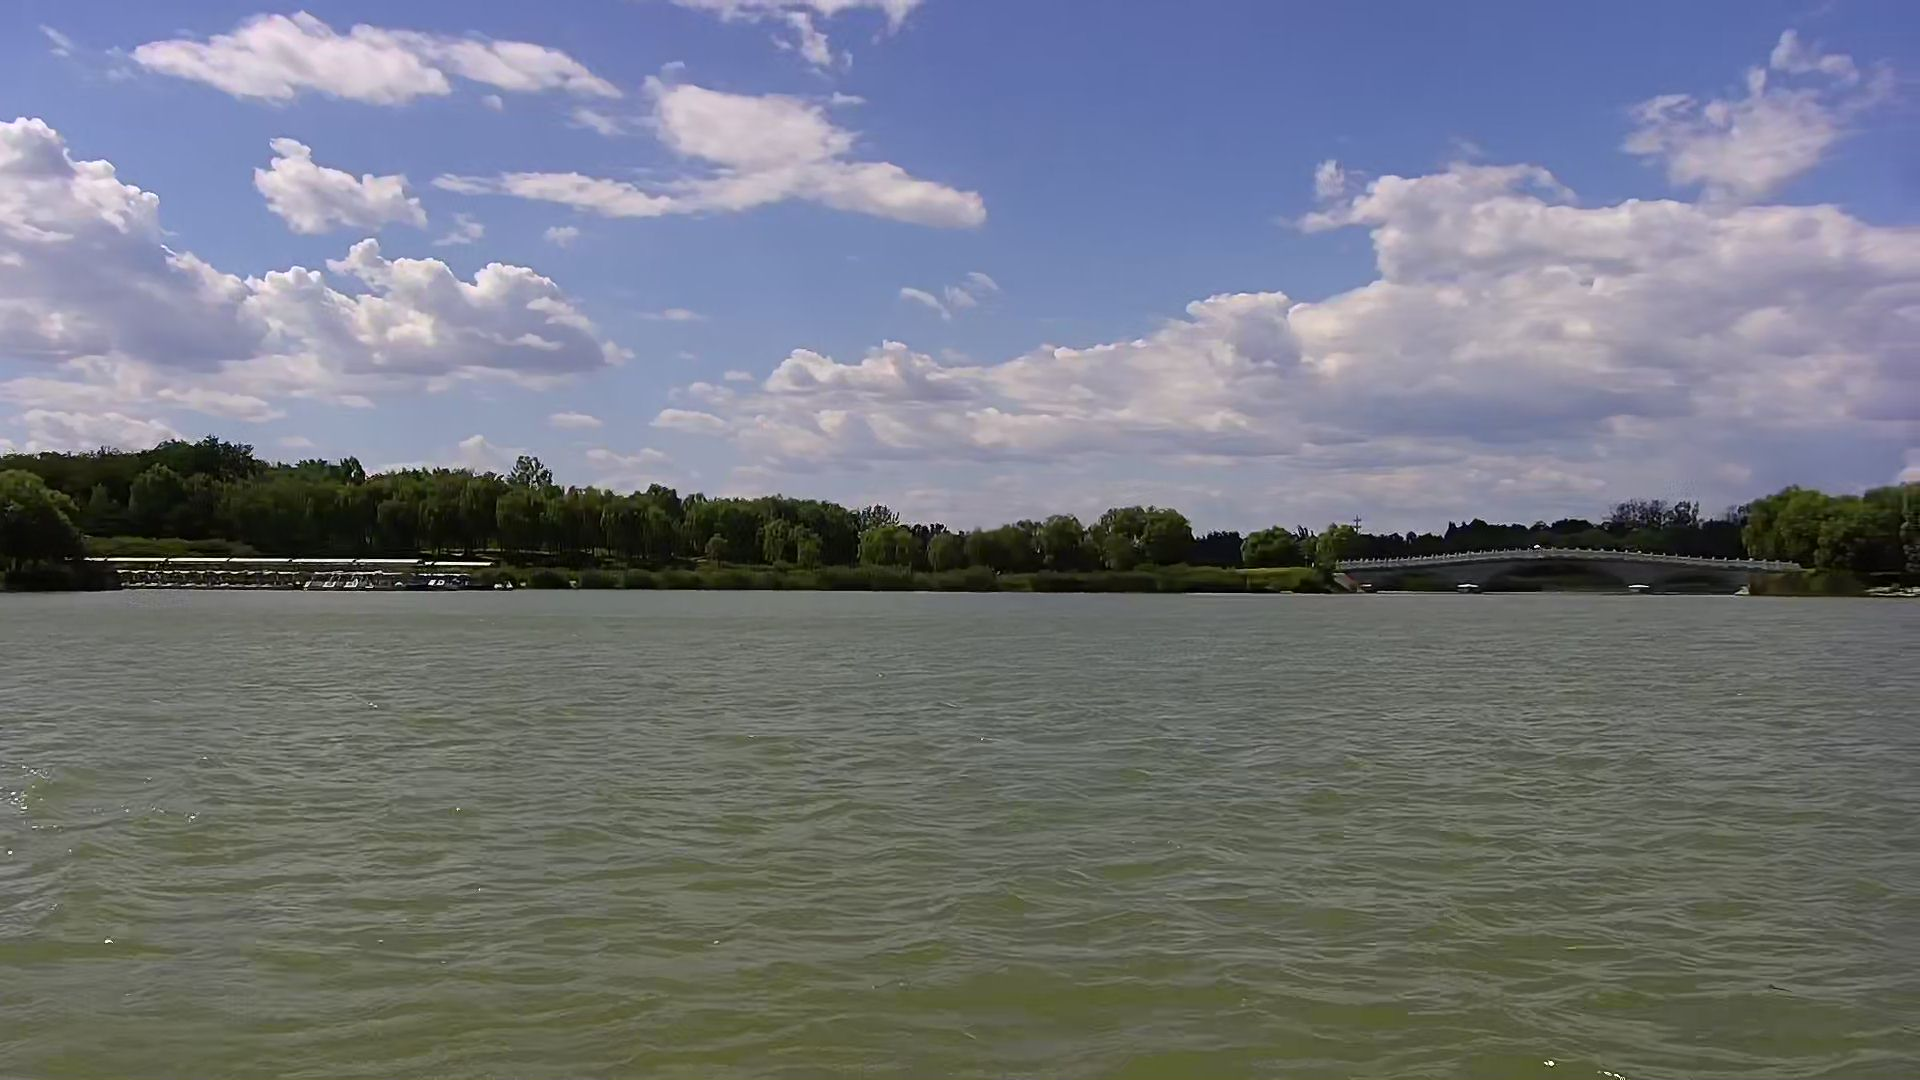bridge: (1329, 545, 1818, 597)
harbor: (82, 554, 492, 596)
